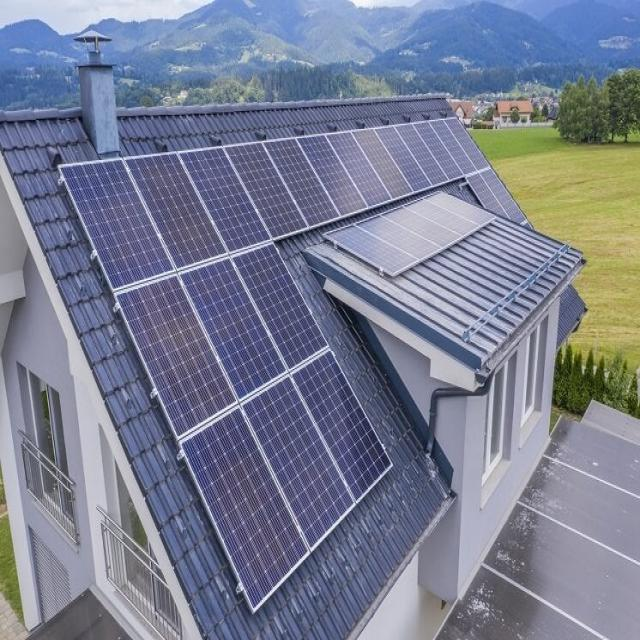Clean: (62, 116, 523, 610)
